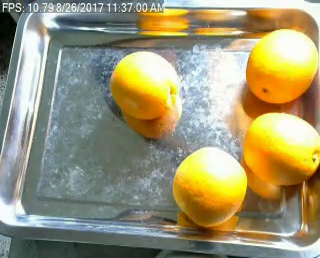Orange: (172, 146, 246, 227), (244, 111, 320, 186), (246, 28, 318, 104), (109, 50, 181, 119)
